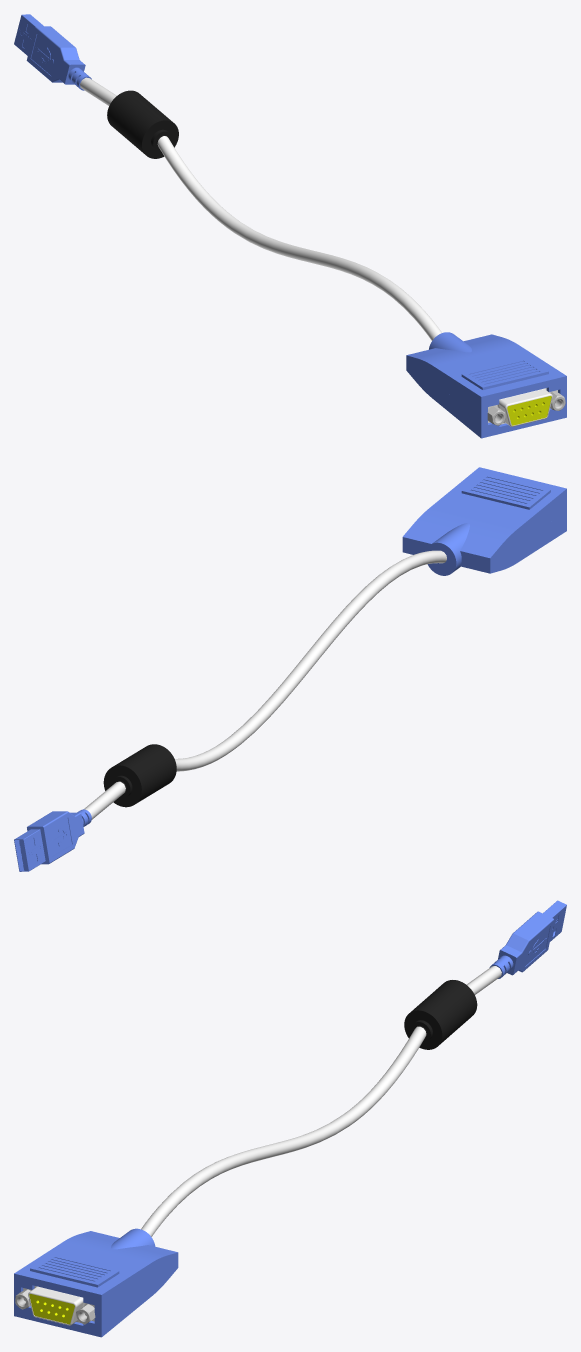
The model's file is RS232 Cable.FBX.
The picture shows the model from 3 angles, top to bottom: view 1: azimuth 30°, elevation 25°; view 2: azimuth 150°, elevation 25°; view 3: azimuth 330°, elevation 25°; orthographic projection. The views are drawn at different scales.
Parts seen in each view (by area): view 1: Solid1_30, Solid1_29, Solid5, Solid1_26, Solid1, Solid1_4, Solid1_3; view 2: Solid1_30, Solid1_29, Solid5, Solid1_26, Solid1, Solid2_1; view 3: Solid1_30, Solid1_29, Solid1_26, Solid5, Solid1, Solid1_4, Solid1_3.
Part boxes in pixels (x1=…): Solid1_30: x1=406, y1=332, x2=566, y2=417; Solid1_29: x1=157, y1=136, x2=441, y2=340; Solid5: x1=14, y1=14, x2=91, y2=90; Solid1_26: x1=107, y1=90, x2=178, y2=158; Solid1: x1=406, y1=363, x2=566, y2=438; Solid1_4: x1=507, y1=396, x2=551, y2=425; Solid1_3: x1=488, y1=388, x2=557, y2=426; Solid1_30: x1=402, y1=467, x2=566, y2=565; Solid1_29: x1=175, y1=550, x2=446, y2=771; Solid5: x1=14, y1=809, x2=91, y2=871; Solid1_26: x1=103, y1=744, x2=176, y2=807; Solid1: x1=402, y1=510, x2=566, y2=575; Solid2_1: x1=84, y1=781, x2=125, y2=819; Solid1_30: x1=14, y1=1228, x2=178, y2=1315; Solid1_29: x1=141, y1=1026, x2=426, y2=1236; Solid1_26: x1=404, y1=980, x2=477, y2=1049; Solid5: x1=489, y1=900, x2=566, y2=978; Solid1: x1=14, y1=1260, x2=178, y2=1337; Solid1_4: x1=29, y1=1294, x2=74, y2=1324; Solid1_3: x1=23, y1=1286, x2=94, y2=1325.
Size of the model in its own units: 1.41 by 1.04 by 14.31.
